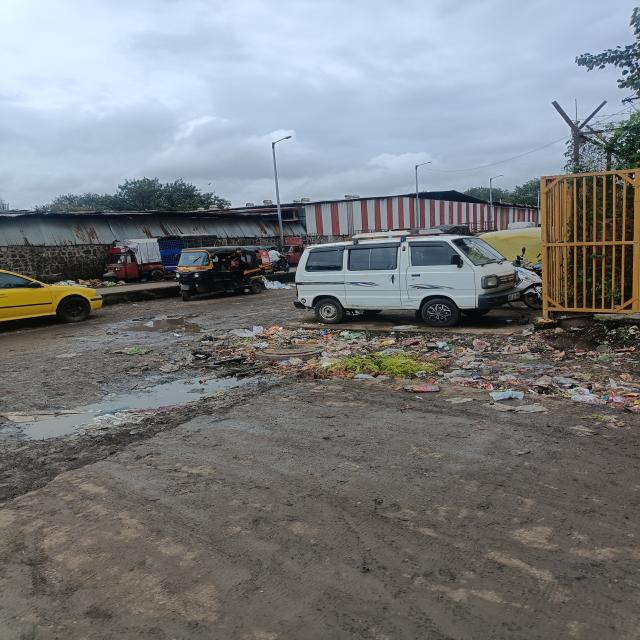garbage: (243, 320, 640, 409)
